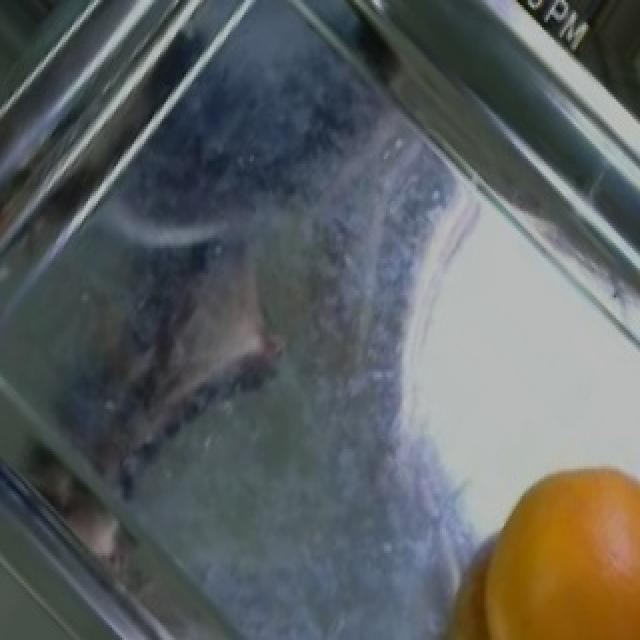Fruit: (430, 444, 640, 638)
